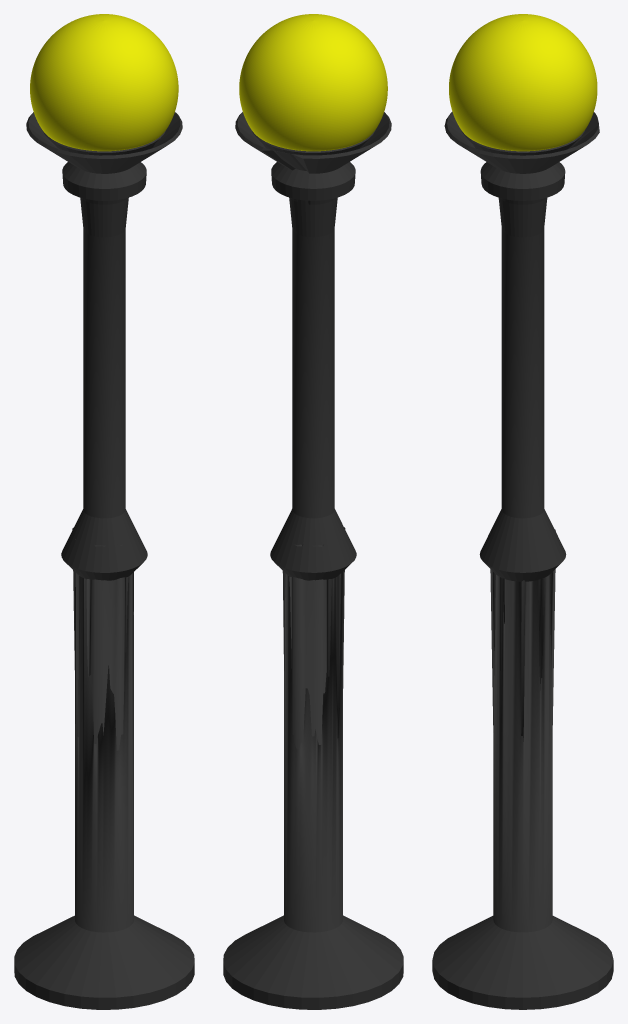
Rendered from Light Post.fbx.
The picture shows the model from 3 angles, left to right: view 1: azimuth 30°, elevation 25°; view 2: azimuth 150°, elevation 25°; view 3: azimuth 270°, elevation 25°; orthographic projection.
Parts seen in each view (by area): view 1: Powal, LightBolb; view 2: Powal, LightBolb; view 3: Powal, LightBolb.
Part boxes in pixels (bbox=[...]): Powal: bbox=[14, 112, 194, 1009]; LightBolb: bbox=[30, 14, 178, 151]; Powal: bbox=[223, 112, 403, 1009]; LightBolb: bbox=[239, 14, 387, 151]; Powal: bbox=[432, 111, 613, 1009]; LightBolb: bbox=[449, 14, 597, 151].
Size of the model in its own units: 200 by 1159 by 200.
